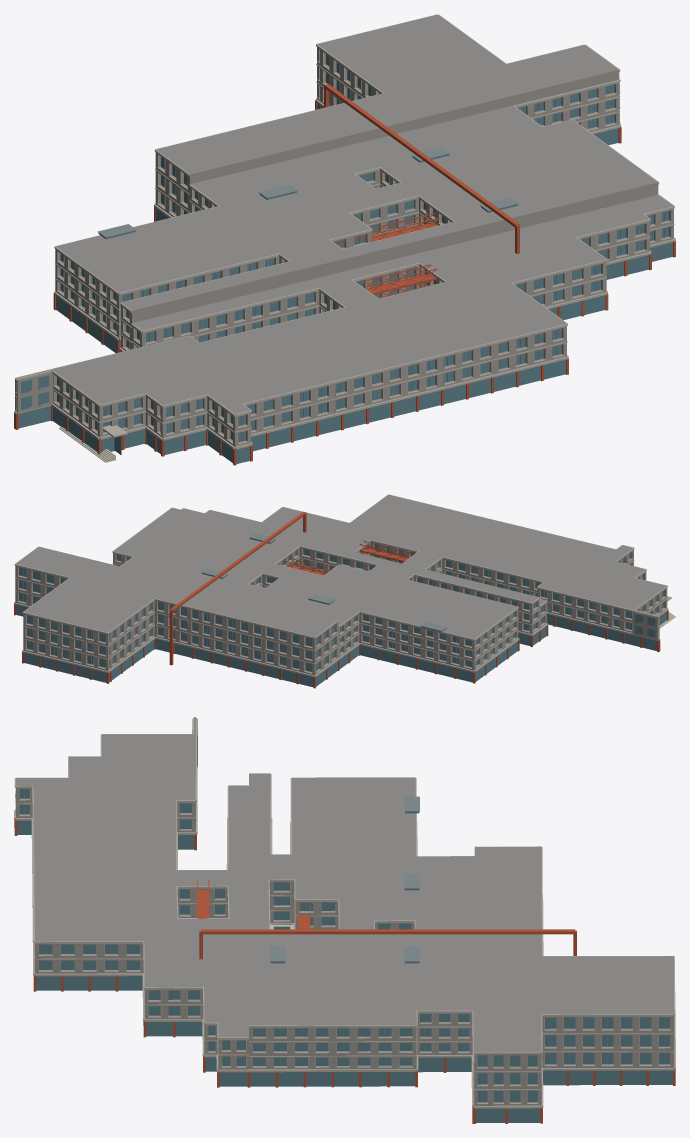
Rendered from arts.glb.
The picture shows the model from 3 angles, top to bottom: view 1: azimuth 30°, elevation 25°; view 2: azimuth 150°, elevation 25°; view 3: azimuth 270°, elevation 25°; orthographic projection. The views are drawn at different scales.
Visible parts, largest first — view 1: arts_roof, podium, glass, podiumTrim, artsRed, metal; view 2: arts_roof, podium, glass, podiumTrim, artsRed, metal; view 3: arts_roof, glass, podium, podiumTrim, artsRed, metal.
Part boxes in pixels (<box>): arts_roof: <box>16,14,673,414</box>; podium: <box>15,47,673,446</box>; glass: <box>18,54,672,463</box>; podiumTrim: <box>14,14,675,449</box>; artsRed: <box>14,84,675,465</box>; metal: <box>63,56,664,441</box>; arts_roof: <box>15,494,666,638</box>; podium: <box>15,541,667,675</box>; glass: <box>16,538,666,687</box>; podiumTrim: <box>14,494,671,677</box>; artsRed: <box>14,511,668,688</box>; metal: <box>23,533,629,671</box>; arts_roof: <box>15,717,674,1061</box>; glass: <box>17,789,672,1122</box>; podium: <box>16,718,674,1105</box>; podiumTrim: <box>14,717,675,1108</box>; artsRed: <box>14,819,675,1123</box>; metal: <box>24,789,664,1101</box>.
Bounding box in the file's own units: 177 × 17.82 × 138.
